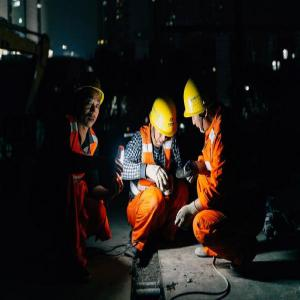yellow: (184, 73, 218, 134), (72, 73, 104, 126), (150, 97, 178, 148)
